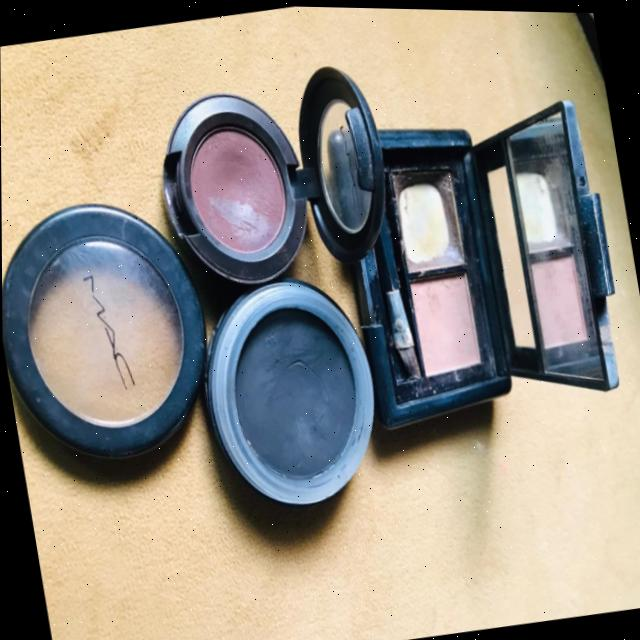brush: (371, 221, 422, 405)
highlighter: (388, 151, 490, 385)
kajal: (184, 281, 400, 538)
lip balm: (142, 52, 350, 306)
powder: (1, 195, 220, 498)
